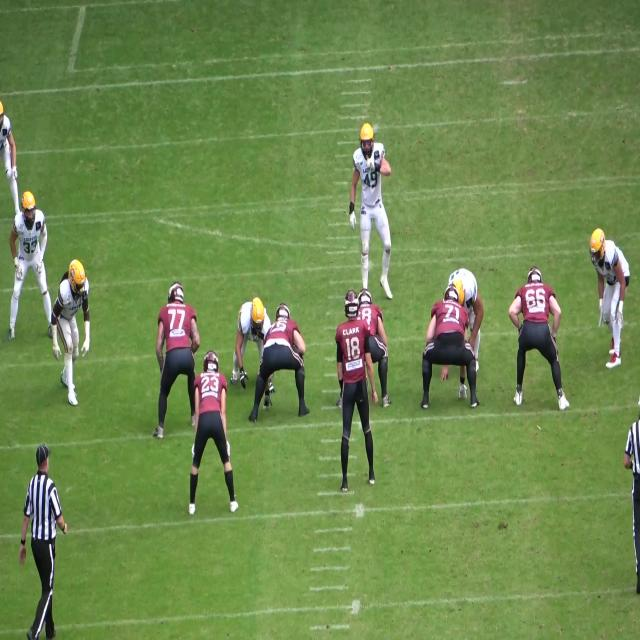american-football-players: (508, 269, 569, 411), (336, 289, 376, 493), (349, 122, 394, 300), (190, 350, 238, 514), (248, 302, 310, 425), (422, 284, 480, 409), (153, 282, 199, 438), (10, 190, 53, 338), (51, 259, 90, 405), (590, 229, 630, 369), (356, 290, 393, 407), (228, 298, 273, 390), (449, 270, 485, 370), (0, 98, 22, 214)
